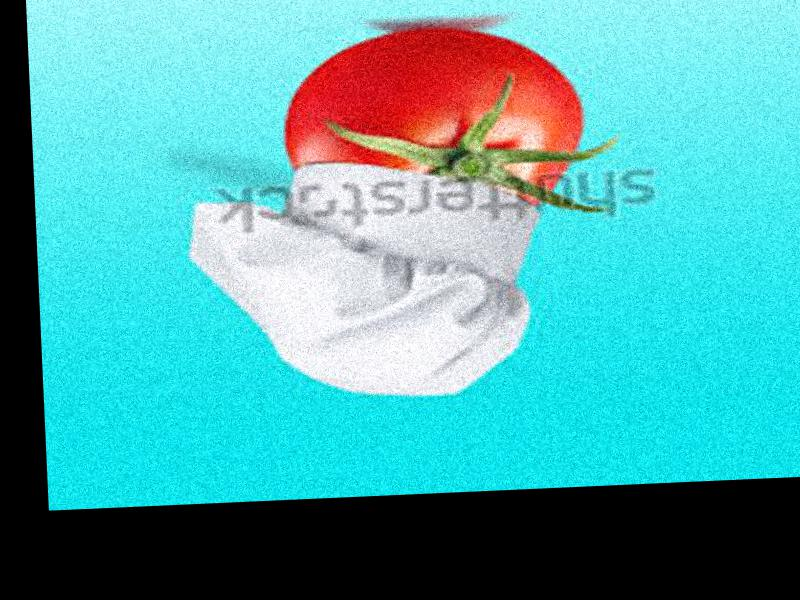Tomato: (280, 25, 581, 217)
